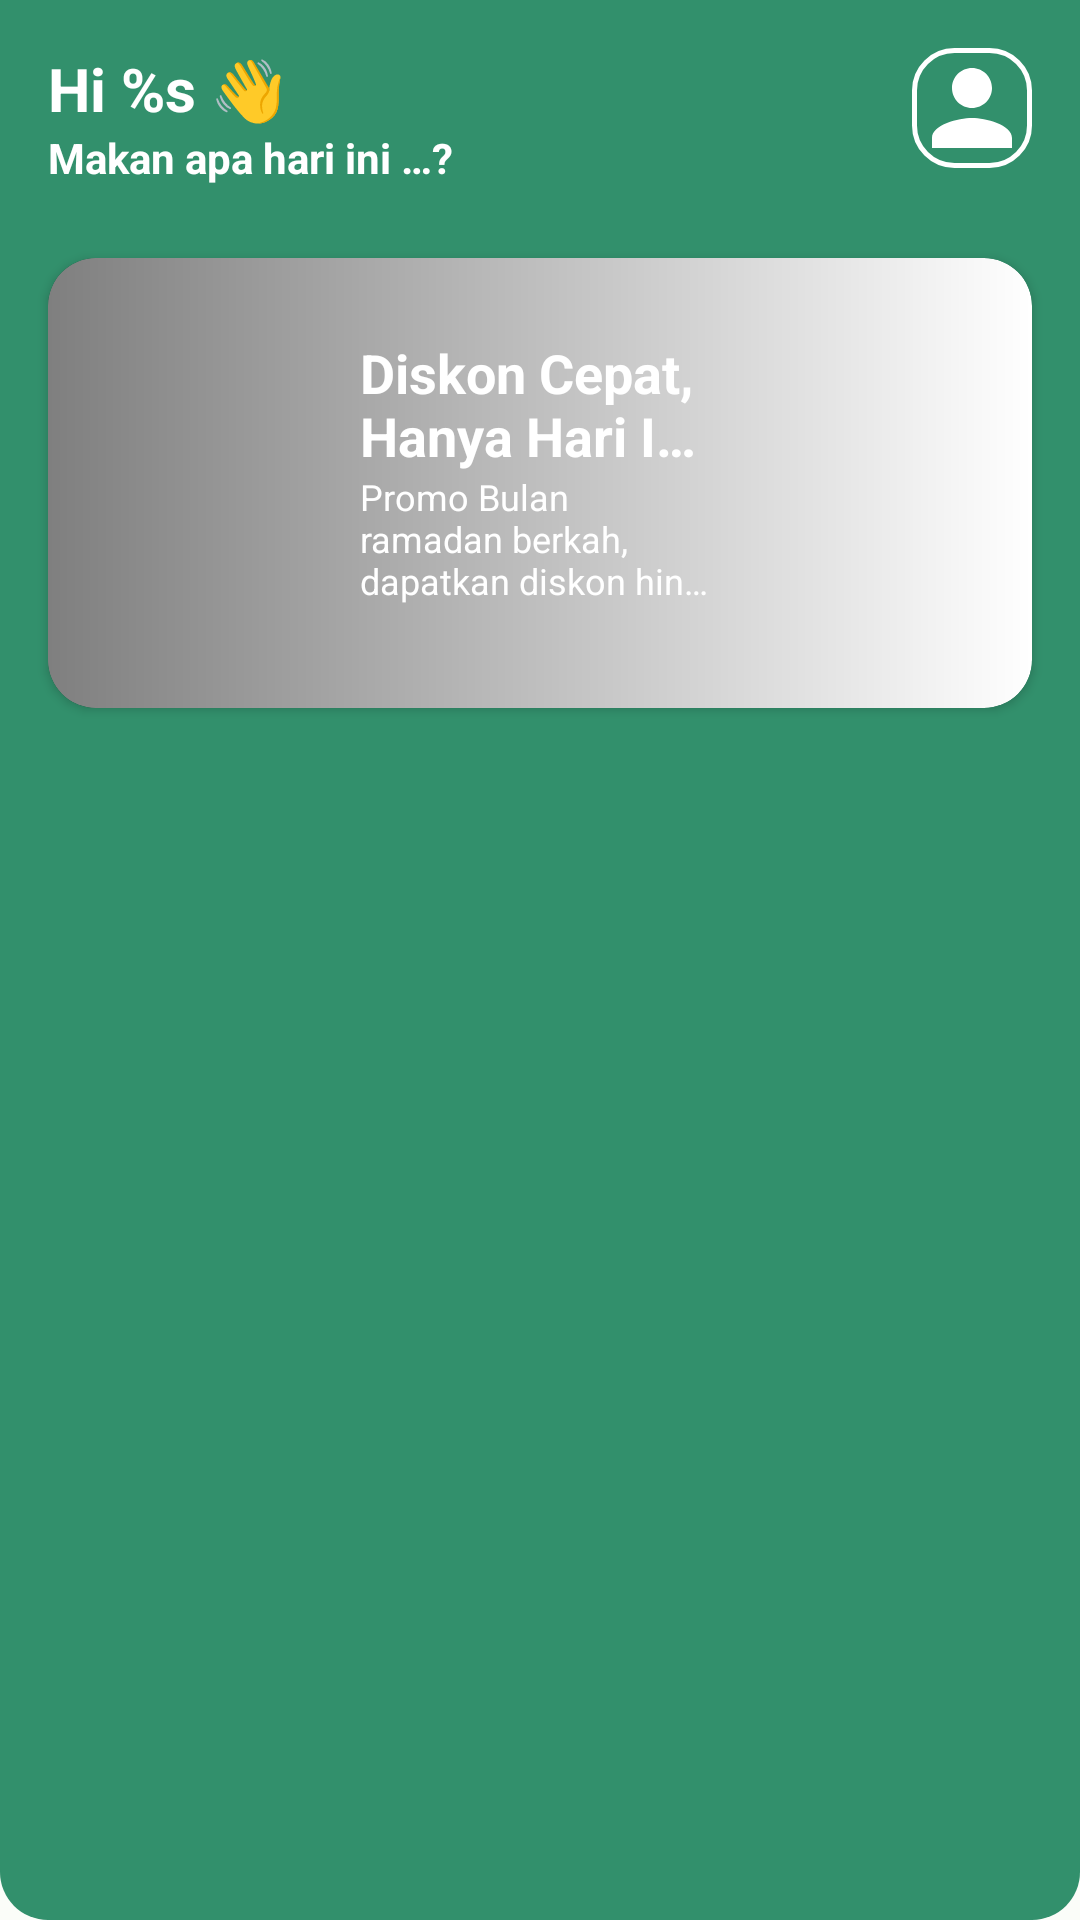

Screen size 1080 × 1920. Icon name, then its center in pixels as (x=x, y=y):
profile: (x=972, y=108)
